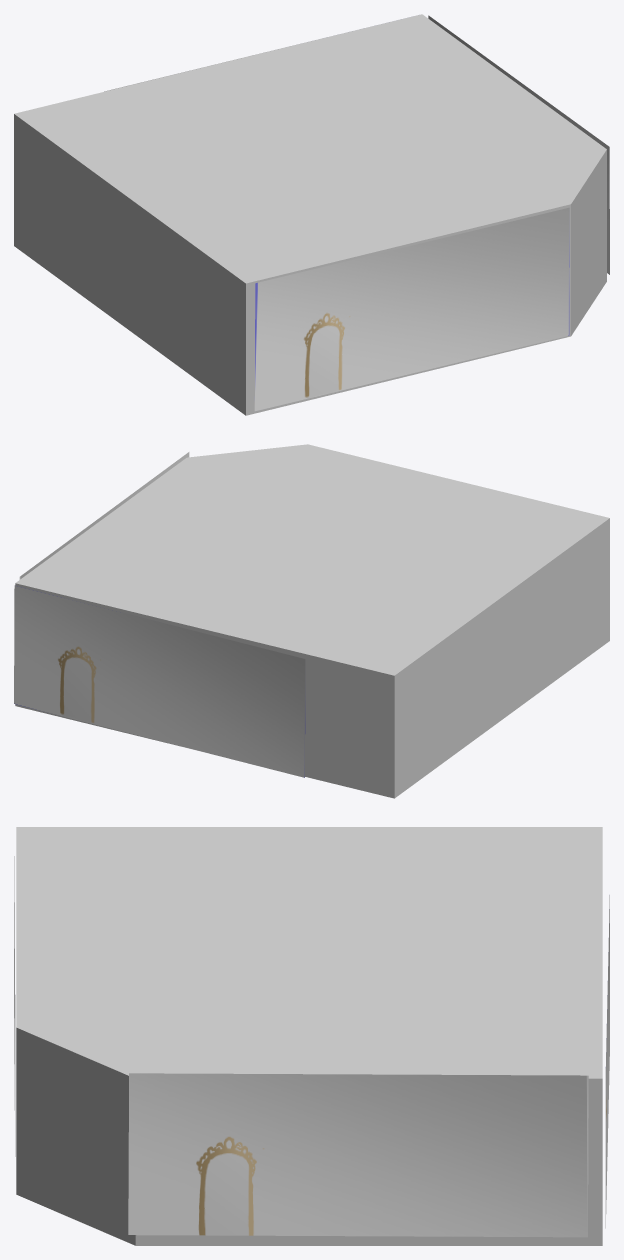
Rendered from house_3.glb.
3 views of the same model, one above another, from view 1: azimuth 30°, elevation 25°; view 2: azimuth 150°, elevation 25°; view 3: azimuth 270°, elevation 25° (orthographic). The views are drawn at different scales.
Parts seen in each view (by area): view 1: Cube, Plane.002, Plane.003; view 2: Cube, Plane.001, Plane.003; view 3: Cube, Plane.003, Plane.001.
Part boxes in pixels (<box>): Cube: <box>14,14,606,415</box>; Plane.002: <box>254,207,569,411</box>; Plane.003: <box>428,15,609,274</box>; Cube: <box>15,444,609,798</box>; Plane.001: <box>14,585,305,777</box>; Plane.003: <box>19,452,189,579</box>; Cube: <box>16,827,602,1245</box>; Plane.003: <box>128,1073,588,1237</box>; Plane.001: <box>605,895,609,1228</box>.
Size of what is drawn, in the model's own units: 37.33 by 11.92 by 37.3.
4 materials, 3 textured.
